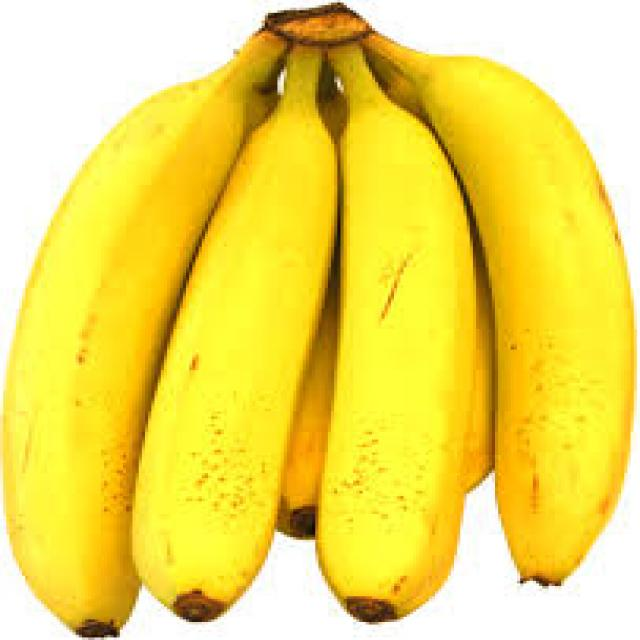organic waste: (4, 2, 628, 638), (0, 57, 252, 638), (362, 29, 614, 584), (129, 51, 334, 617), (315, 31, 470, 619), (278, 229, 353, 532), (448, 193, 488, 488)
